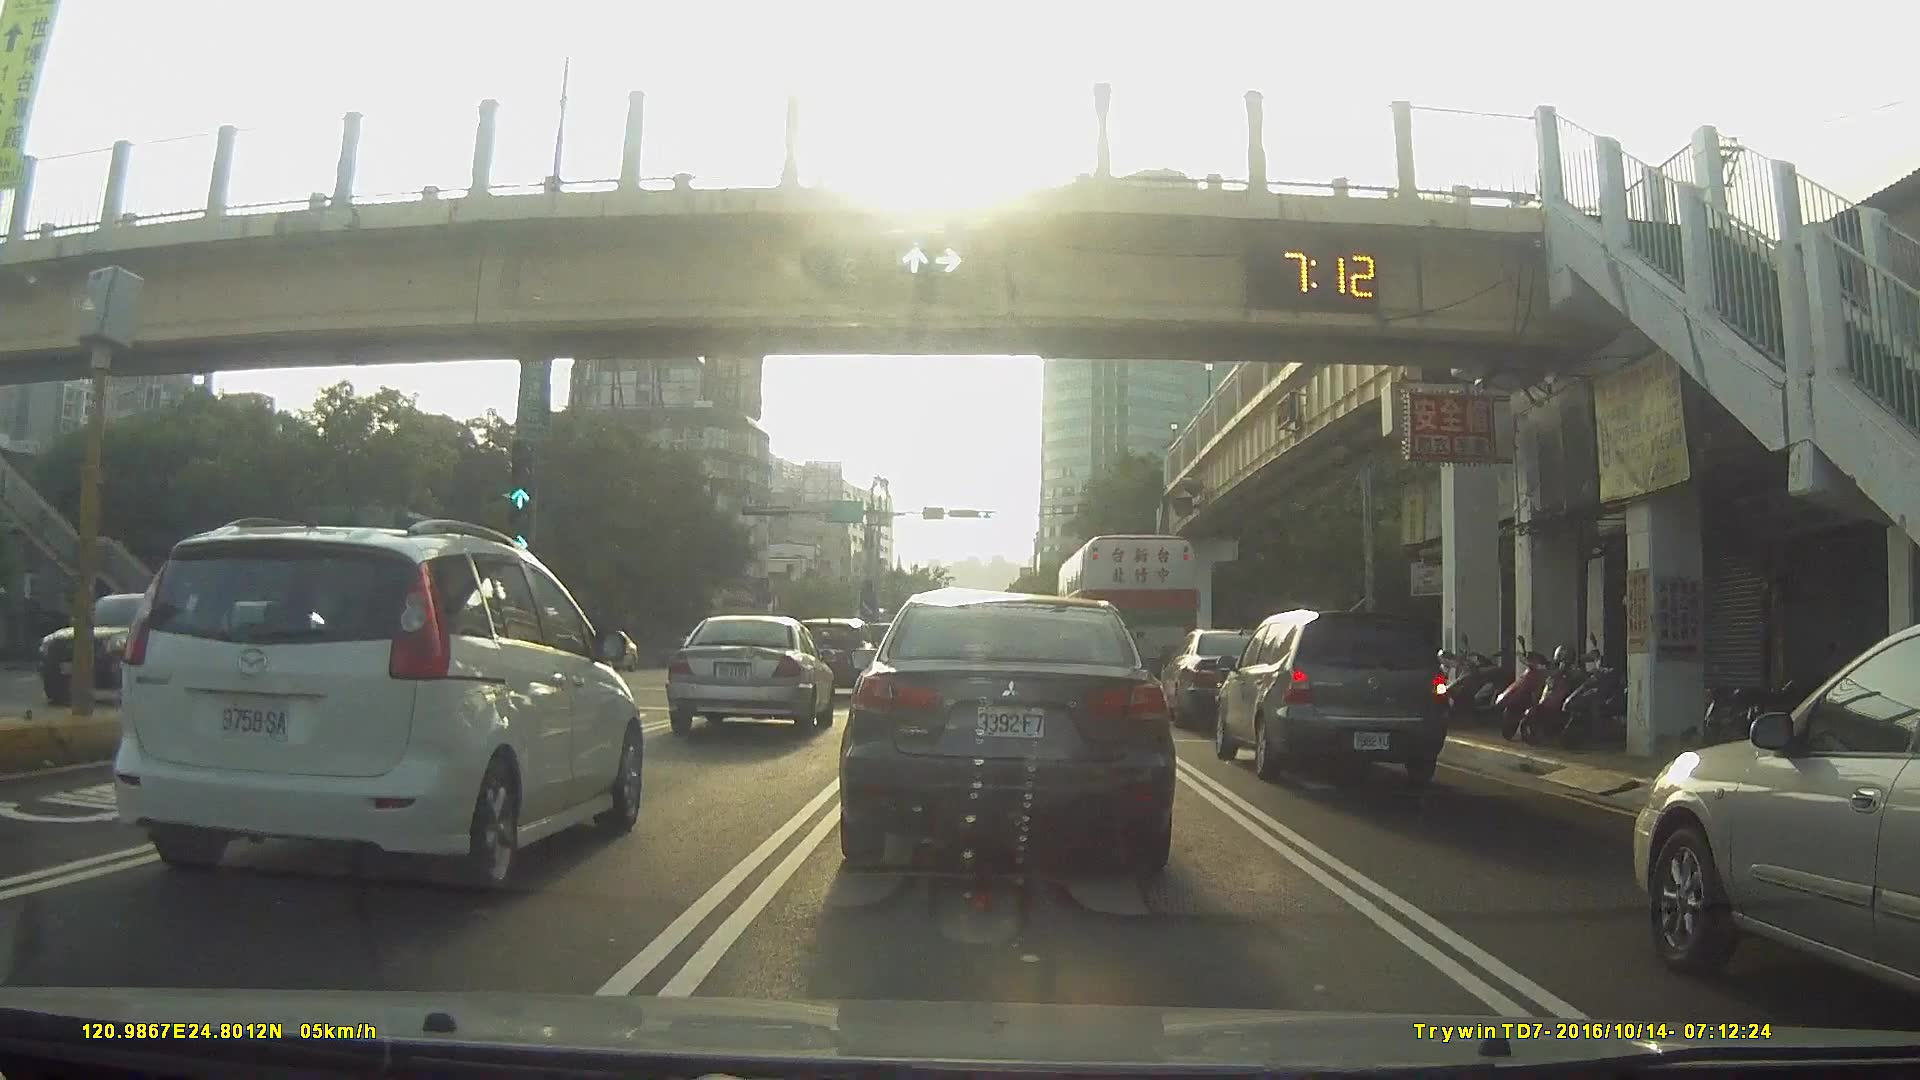vehicle: (103, 516, 646, 898), (1630, 622, 1920, 1007), (841, 585, 1174, 887), (1211, 605, 1447, 790), (1058, 535, 1212, 695), (666, 615, 833, 736), (1156, 626, 1284, 731), (793, 613, 880, 691), (653, 634, 703, 669)
